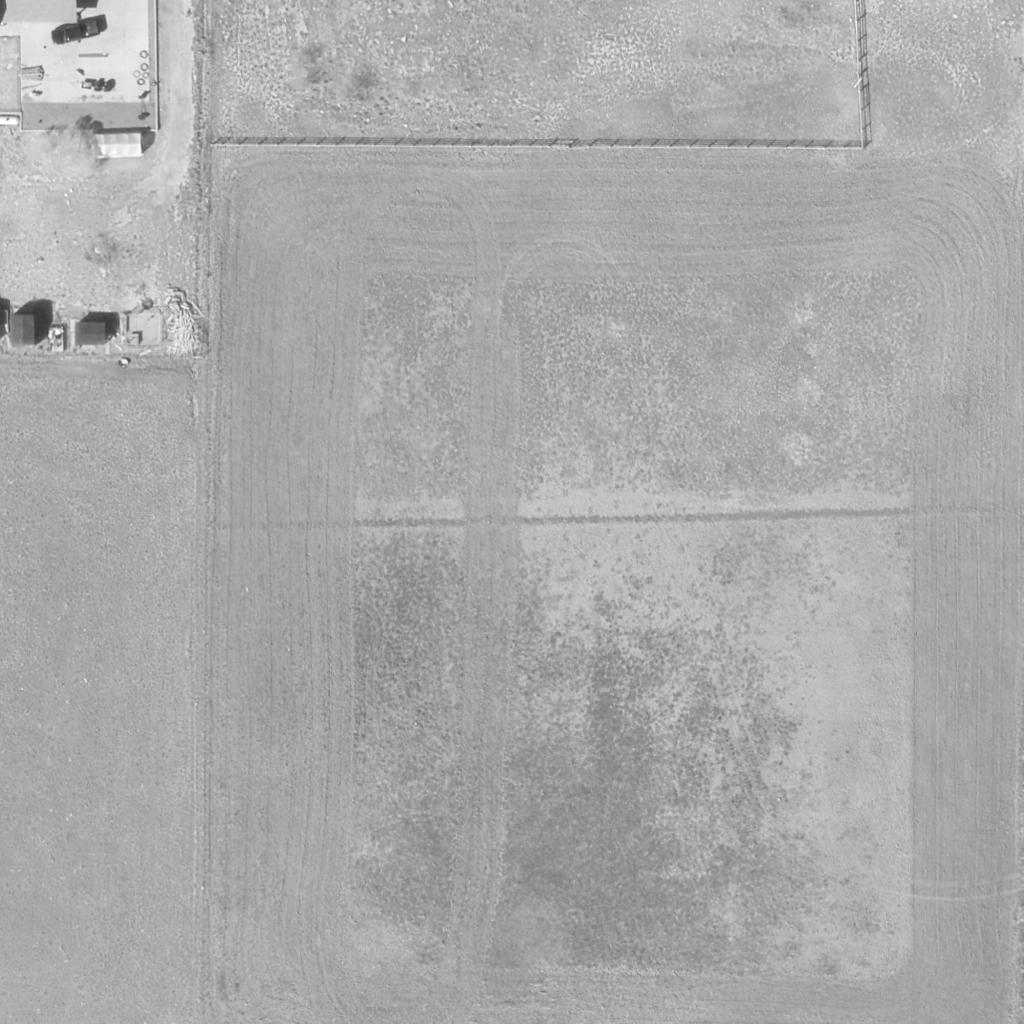vehicle: (51, 20, 99, 46)
